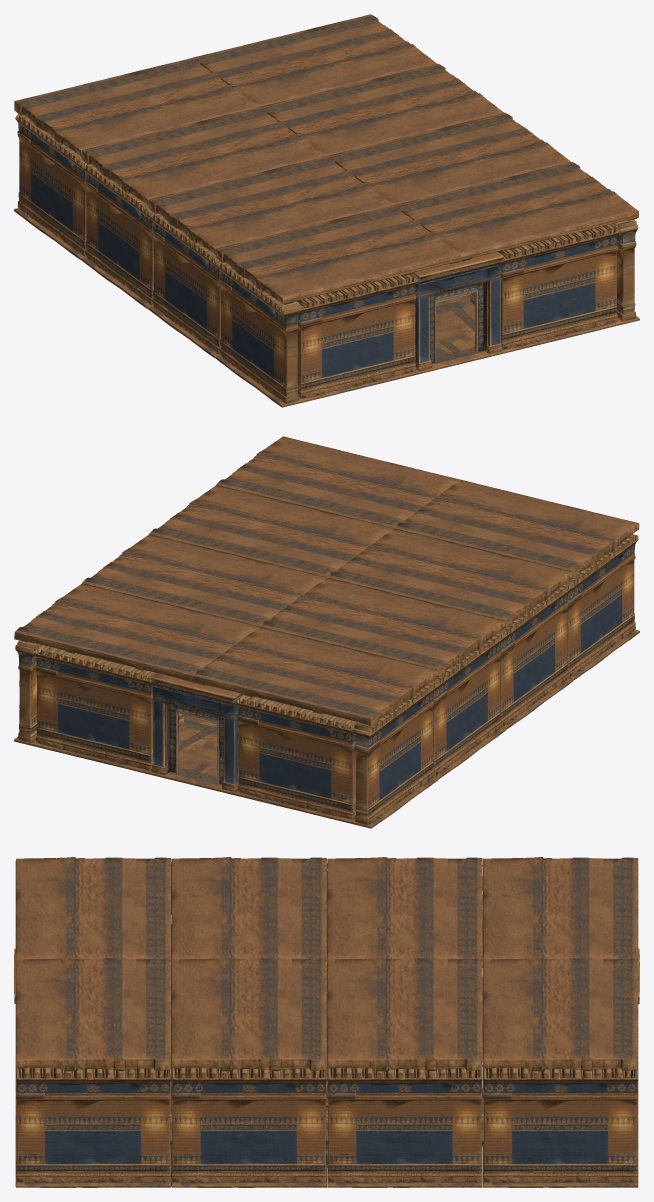
File: K1_RoyalReceptionHall_lod25.glb
The picture shows the model from 3 angles, top to bottom: view 1: azimuth 30°, elevation 25°; view 2: azimuth 150°, elevation 25°; view 3: azimuth 270°, elevation 25°; orthographic projection. The views are drawn at different scales.
Visible parts, largest first — view 1: K1_Ceiling, K1_Wall_North_Exit_A, K1_Wall_North_Exit_B, K1_Wall_West_04, K1_Wall_West_02, K1_Wall_West_01, K1_Wall_West_03, K1_Gate_Exit_ToK2, K1_Floor, K1_Wall_East_04; view 2: K1_Ceiling, K1_Wall_South_Entrance_A, K1_Wall_South_Entrance_B, K1_Wall_West_01, K1_Wall_West_04, K1_Wall_West_03, K1_Wall_West_02, K1_Gate_Entrance_Main, K1_Floor, K1_Wall_East_01; view 3: K1_Ceiling, K1_Wall_East_04, K1_Wall_East_01, K1_Wall_East_02, K1_Wall_East_03, K1_Floor.
Part boxes in pixels (bbox=[...]): K1_Ceiling: bbox=[14, 14, 638, 304]; K1_Wall_North_Exit_A: bbox=[296, 274, 417, 398]; K1_Wall_North_Exit_B: bbox=[498, 223, 619, 349]; K1_Wall_West_04: bbox=[217, 261, 301, 403]; K1_Wall_West_02: bbox=[82, 163, 153, 305]; K1_Wall_West_01: bbox=[15, 114, 86, 256]; K1_Wall_West_03: bbox=[149, 212, 220, 354]; K1_Gate_Exit_ToK2: bbox=[412, 252, 503, 370]; K1_Floor: bbox=[14, 208, 639, 407]; K1_Wall_East_04: bbox=[613, 219, 638, 321]; K1_Ceiling: bbox=[14, 436, 639, 726]; K1_Wall_South_Entrance_A: bbox=[236, 695, 356, 819]; K1_Wall_South_Entrance_B: bbox=[34, 645, 155, 770]; K1_Wall_West_01: bbox=[352, 681, 437, 824]; K1_Wall_West_04: bbox=[566, 534, 638, 677]; K1_Wall_West_03: bbox=[499, 583, 571, 726]; K1_Wall_West_02: bbox=[431, 632, 504, 775]; K1_Gate_Entrance_Main: bbox=[149, 673, 243, 792]; K1_Floor: bbox=[14, 629, 639, 828]; K1_Wall_East_01: bbox=[15, 640, 42, 742]; K1_Ceiling: bbox=[15, 857, 638, 1071]; K1_Wall_East_04: bbox=[15, 1067, 170, 1182]; K1_Wall_East_01: bbox=[483, 1067, 638, 1182]; K1_Wall_East_02: bbox=[327, 1067, 482, 1182]; K1_Wall_East_03: bbox=[171, 1067, 326, 1182]; K1_Floor: bbox=[15, 992, 638, 1187].
Size of the model in its own units: 31.33 by 9.25 by 40.79.
2 materials, 2 textured.
